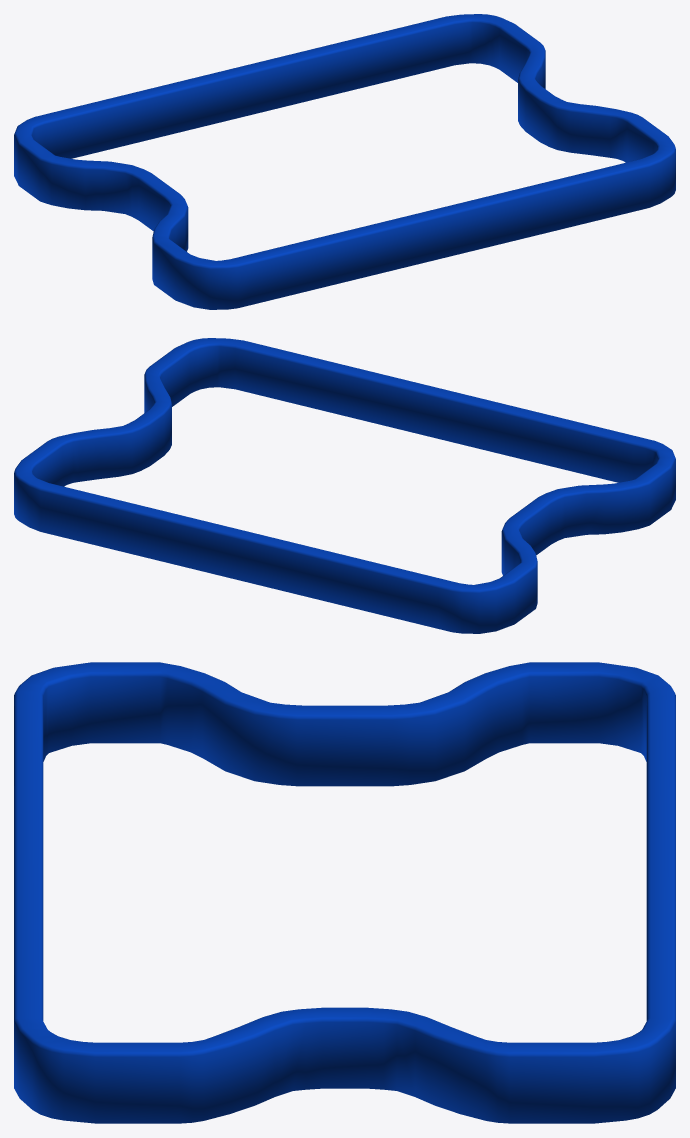
File: SM_HUB_Bordure_1er_etage.fbx
3 renders of one model, top to bottom at view 1: azimuth 30°, elevation 25°; view 2: azimuth 150°, elevation 25°; view 3: azimuth 270°, elevation 25°, orthographic. The views are drawn at different scales.
Parts seen in each view (by area): view 1: SM_HUB_Bordure_1er_etage; view 2: SM_HUB_Bordure_1er_etage; view 3: SM_HUB_Bordure_1er_etage.
Part boxes in pixels (x1,y1,x2,y2): SM_HUB_Bordure_1er_etage: (14,14,675,309); SM_HUB_Bordure_1er_etage: (14,338,675,633); SM_HUB_Bordure_1er_etage: (14,662,675,1123).
Size of the model in its own units: 2901 by 242 by 2068.
